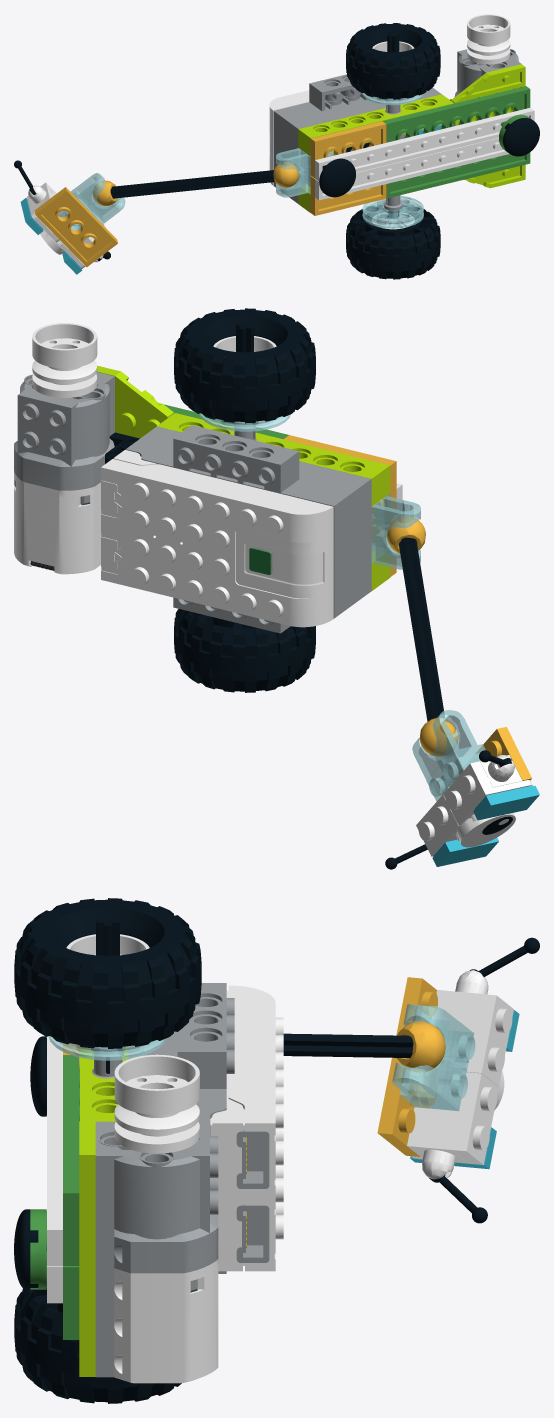
File: Milo.dae
3 views of the same model, one above another, from view 1: azimuth 30°, elevation 25°; view 2: azimuth 150°, elevation 25°; view 3: azimuth 270°, elevation 25° (orthographic). The views are drawn at different scales.
Visible parts, largest first — view 1: Inner-Node-Rueda-1 (×2), Inner-Node-Milo_dot_io-15, Inner-Node-Milo_dot_io-16, Inner-Node-Milo_dot_io-0, Inner-Node-Cabeza-0, Inner-Node-Milo_dot_io-17, Inner-Node-Milo_dot_io-2, Inner-Node-Milo_dot_io-1, Inner-Node-Cuello-1, Inner-Node-Milo_dot_io-5, Inner-Node-Motor-2, Inner-Node-Uni_F3_n-0 (+12 smaller); view 2: Inner-Node-Milo_dot_io-15, Inner-Node-Rueda-1 (×2), Inner-Node-Motor-0, Inner-Node-Motor-2, Inner-Node-Cuello-1, Inner-Node-Cabeza-1, Inner-Node-Milo_dot_io-5, Inner-Node-Milo_dot_io-2, Inner-Node-Uni_F3_n-3, Inner-Node-Cabeza-4, Inner-Node-Cabeza-5, Inner-Node-Cabeza-8 (+7 smaller); view 3: Inner-Node-Motor-0, Inner-Node-Rueda-1 (×2), Inner-Node-Milo_dot_io-15, Inner-Node-Motor-2, Inner-Node-Cabeza-1, Inner-Node-Milo_dot_io-2, Inner-Node-Cabeza-0, Inner-Node-Milo_dot_io-16, Inner-Node-Milo_dot_io-0, Inner-Node-Cabeza-5, Inner-Node-Cuello-1, Inner-Node-Cabeza-4 (+15 smaller).
Part boxes in pixels (x1=…): Inner-Node-Rueda-1 (×2): x1=346, y1=23, x2=440, y2=279; Inner-Node-Milo_dot_io-15: x1=269, y1=74, x2=441, y2=203; Inner-Node-Milo_dot_io-16: x1=315, y1=107, x2=534, y2=181; Inner-Node-Milo_dot_io-0: x1=383, y1=86, x2=530, y2=142; Inner-Node-Cabeza-0: x1=34, y1=187, x2=117, y2=267; Inner-Node-Milo_dot_io-17: x1=315, y1=138, x2=509, y2=200; Inner-Node-Milo_dot_io-2: x1=451, y1=64, x2=525, y2=188; Inner-Node-Milo_dot_io-1: x1=386, y1=152, x2=530, y2=198; Inner-Node-Cuello-1: x1=110, y1=170, x2=274, y2=198; Inner-Node-Milo_dot_io-5: x1=298, y1=94, x2=454, y2=156; Inner-Node-Motor-2: x1=467, y1=14, x2=510, y2=64; Inner-Node-Uni_F3_n-0: x1=310, y1=121, x2=386, y2=177; Inner-Node-Milo_dot_io-15: x1=101, y1=425, x2=371, y2=633; Inner-Node-Rueda-1 (×2): x1=174, y1=308, x2=315, y2=692; Inner-Node-Motor-0: x1=14, y1=372, x2=114, y2=574; Inner-Node-Motor-2: x1=32, y1=323, x2=97, y2=397; Inner-Node-Cuello-1: x1=399, y1=537, x2=444, y2=721; Inner-Node-Cabeza-1: x1=412, y1=710, x2=485, y2=801; Inner-Node-Milo_dot_io-5: x1=157, y1=413, x2=390, y2=506; Inner-Node-Milo_dot_io-2: x1=97, y1=365, x2=173, y2=438; Inner-Node-Uni_F3_n-3: x1=371, y1=494, x2=420, y2=569; Inner-Node-Cabeza-4: x1=443, y1=761, x2=532, y2=825; Inner-Node-Cabeza-5: x1=416, y1=794, x2=460, y2=856; Inner-Node-Cabeza-8: x1=473, y1=785, x2=539, y2=820; Inner-Node-Motor-0: x1=95, y1=1121, x2=218, y2=1383; Inner-Node-Rueda-1 (×2): x1=14, y1=898, x2=201, y2=1403; Inner-Node-Milo_dot_io-15: x1=129, y1=983, x2=283, y2=1273; Inner-Node-Motor-2: x1=114, y1=1054, x2=199, y2=1153; Inner-Node-Cabeza-1: x1=392, y1=1004, x2=475, y2=1111; Inner-Node-Milo_dot_io-2: x1=79, y1=1121, x2=95, y2=1376; Inner-Node-Cabeza-0: x1=377, y1=977, x2=437, y2=1156; Inner-Node-Milo_dot_io-16: x1=47, y1=1036, x2=62, y2=1266; Inner-Node-Milo_dot_io-0: x1=63, y1=1055, x2=79, y2=1265; Inner-Node-Cabeza-5: x1=412, y1=1072, x2=498, y2=1164; Inner-Node-Cuello-1: x1=283, y1=1033, x2=413, y2=1057; Inner-Node-Cabeza-4: x1=466, y1=994, x2=513, y2=1086.
Size of the model in its own units: 464 by 262 by 257.
